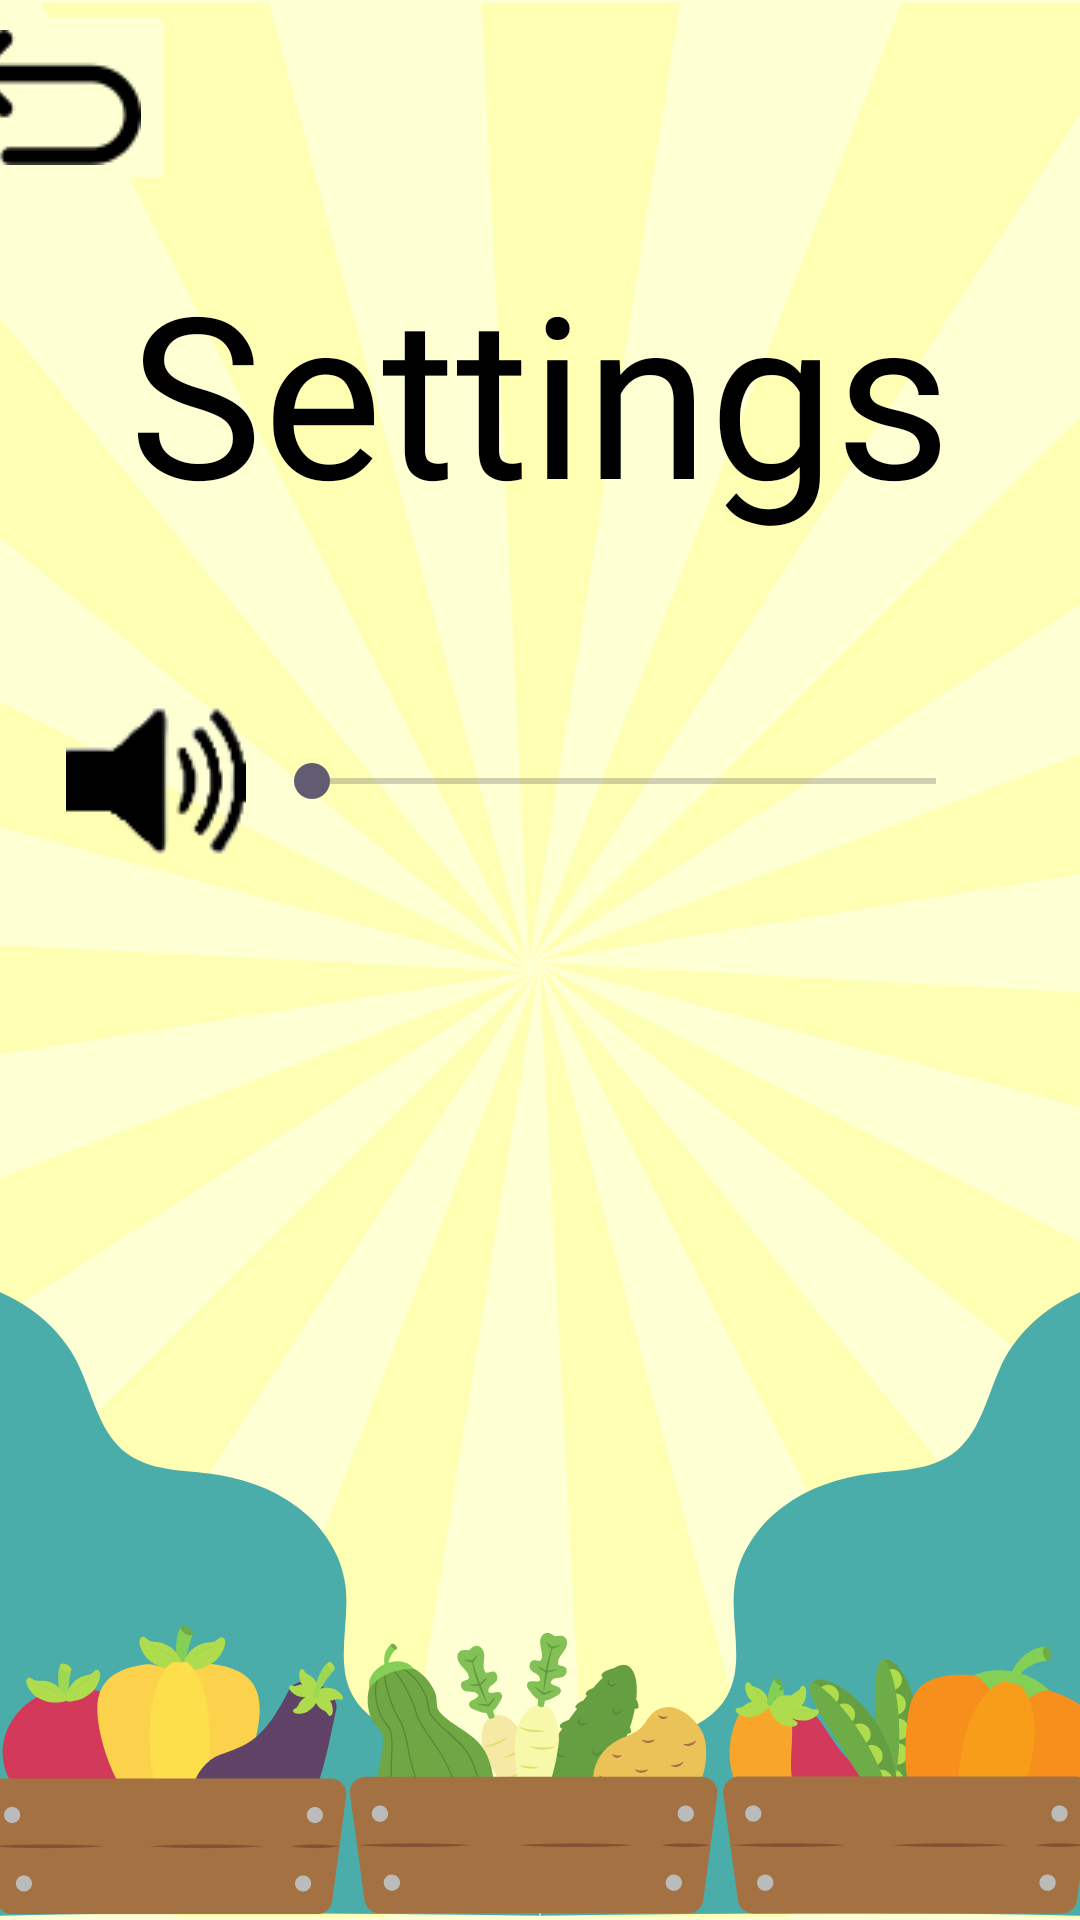

Where to tap for icons on this 1080px×1920px app screen, as point (x, y):
Volume: point (156, 781)
